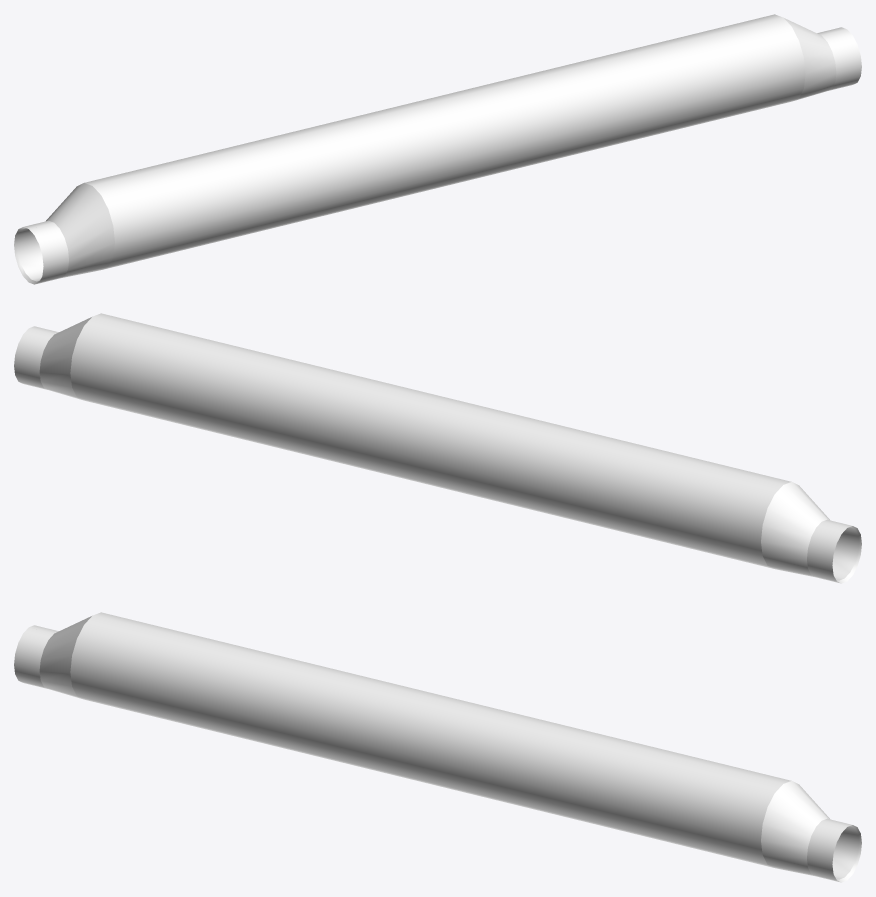
The model's file is Protection Sleeve.fbx.
3 renders of one model, top to bottom at view 1: azimuth 30°, elevation 25°; view 2: azimuth 150°, elevation 25°; view 3: azimuth 330°, elevation 25°, orthographic.
Visible parts, largest first — view 1: Protection Sleeve; view 2: Protection Sleeve; view 3: Protection Sleeve.
Boxes of the visible parts, <box> form: Protection Sleeve: <box>14,14,861,284</box>; Protection Sleeve: <box>14,313,861,583</box>; Protection Sleeve: <box>14,612,861,882</box>.
Size of the model in its own units: 2.21 by 0.2091 by 0.2091.
Materials: 1 (1 with a texture image).
